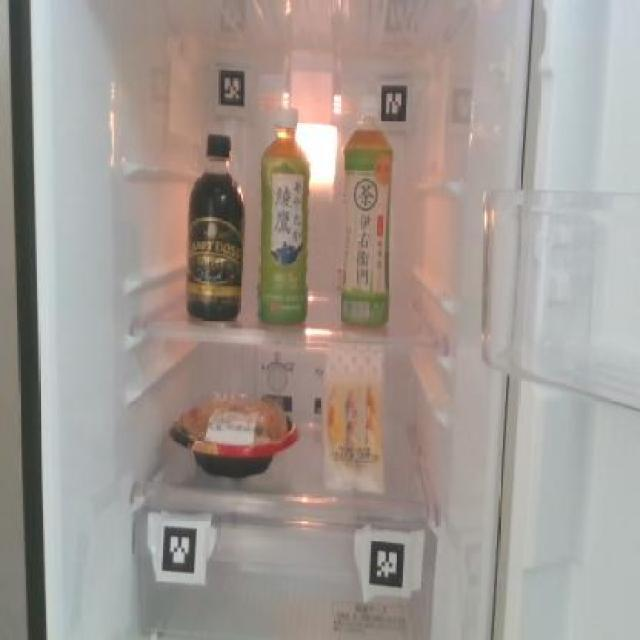bento: (166, 396, 297, 479)
bottle: (256, 102, 310, 327), (338, 121, 394, 328)
coffee: (184, 130, 247, 324)
sandwich: (323, 347, 388, 496)
